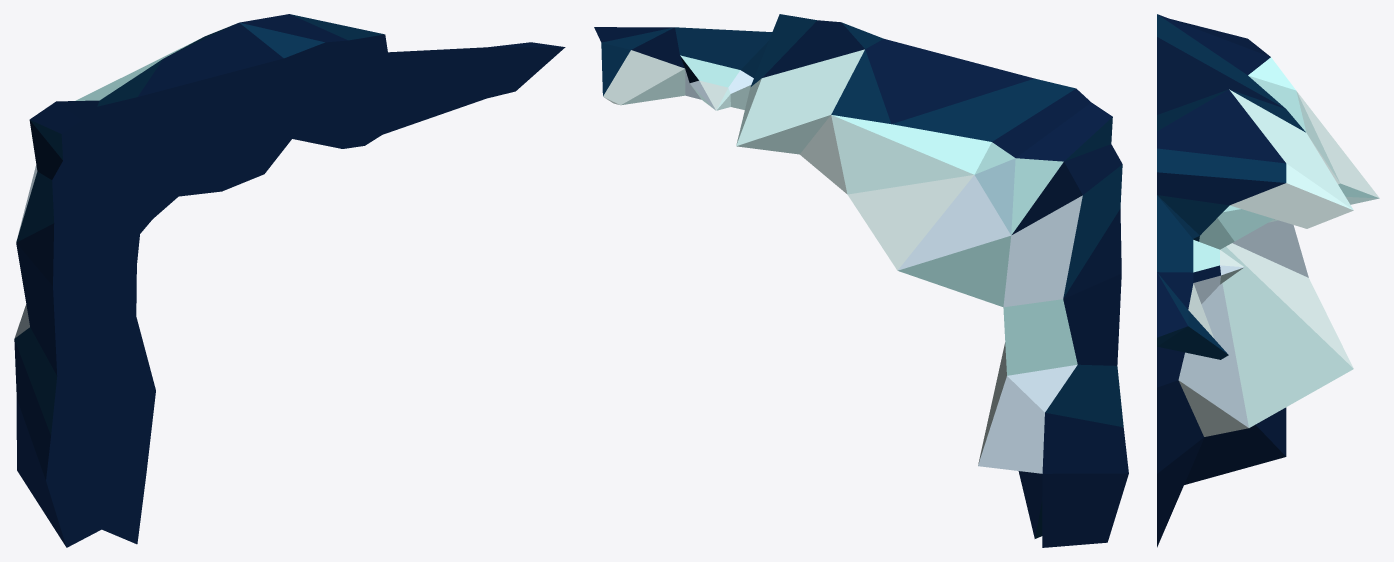
The model's file is winter_middle_mountain_4.fbx.
3 views of the same model, side by side, from view 1: azimuth 30°, elevation 25°; view 2: azimuth 150°, elevation 25°; view 3: azimuth 270°, elevation 25° (orthographic). The views are drawn at different scales.
Parts seen in each view (by area): view 1: winter_middle_mountain_4; view 2: winter_middle_mountain_4; view 3: winter_middle_mountain_4.
Boxes of the visible parts, box(x1,y1,x2,y2) form: winter_middle_mountain_4: box(14, 14, 565, 547); winter_middle_mountain_4: box(594, 14, 1128, 547); winter_middle_mountain_4: box(1157, 14, 1379, 547).
Size of the model in its own units: 1058 by 907 by 344.
